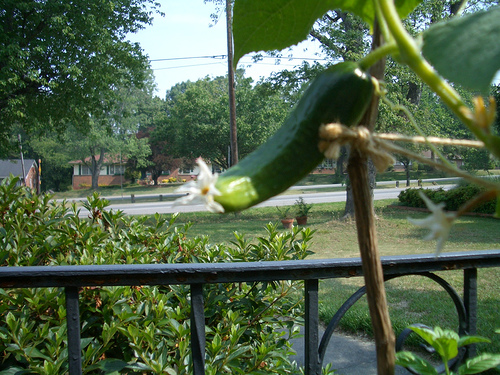cucumber: (207, 59, 381, 209)
